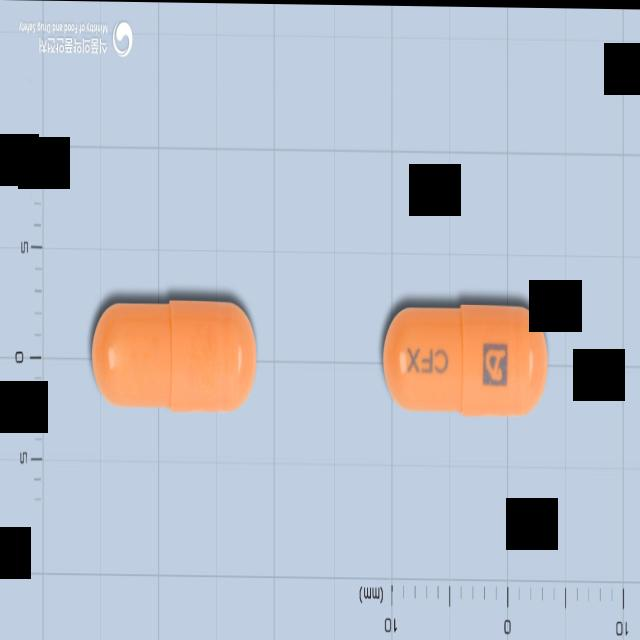Dongkoo Cefixime Hydrate Cap: (91, 298, 257, 414), (382, 303, 548, 417)
